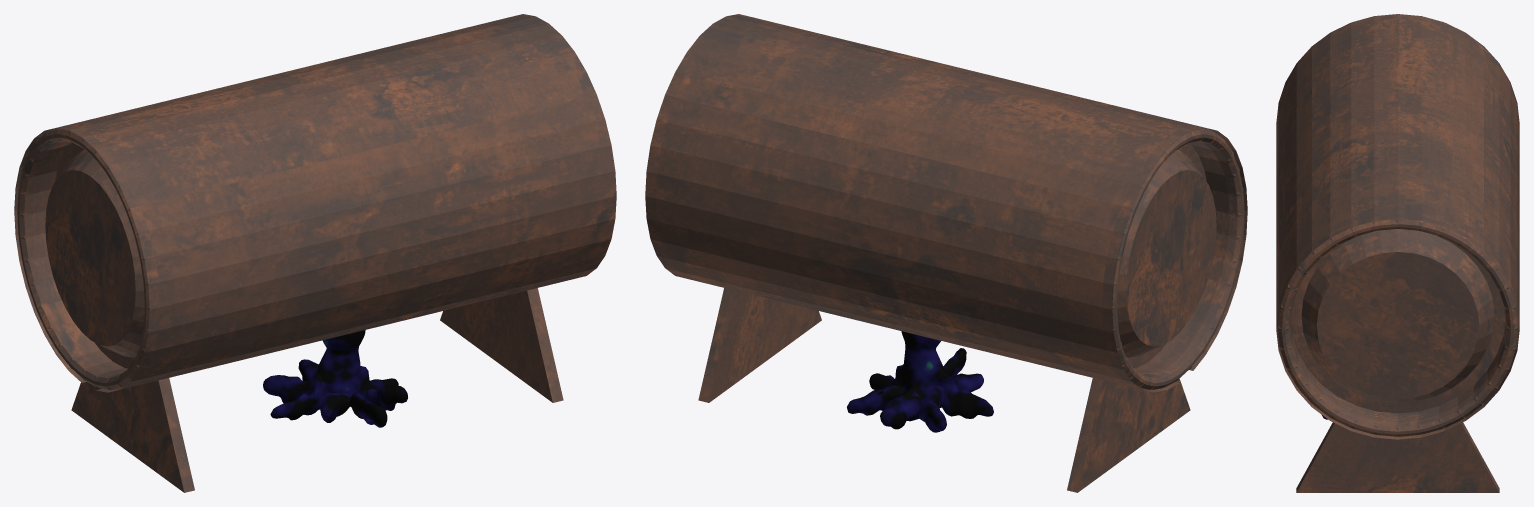
The model's file is tanqueDerramado.fbx.
3 renders of one model, left to right at view 1: azimuth 30°, elevation 25°; view 2: azimuth 150°, elevation 25°; view 3: azimuth 270°, elevation 25°, orthographic. The views are drawn at different scales.
Visible parts, largest first — view 1: Cylinder, Mball.037; view 2: Cylinder, Mball.037; view 3: Cylinder.
Boxes of the visible parts, box(x1,y1,x2,y2) form: Cylinder: box(14, 14, 616, 492); Mball.037: box(263, 330, 407, 427); Cylinder: box(645, 14, 1247, 492); Mball.037: box(847, 331, 993, 432); Cylinder: box(1276, 14, 1519, 492).
Bounding box in the file's own units: 477 × 331 × 240.
Materials: 2 (2 with a texture image).
